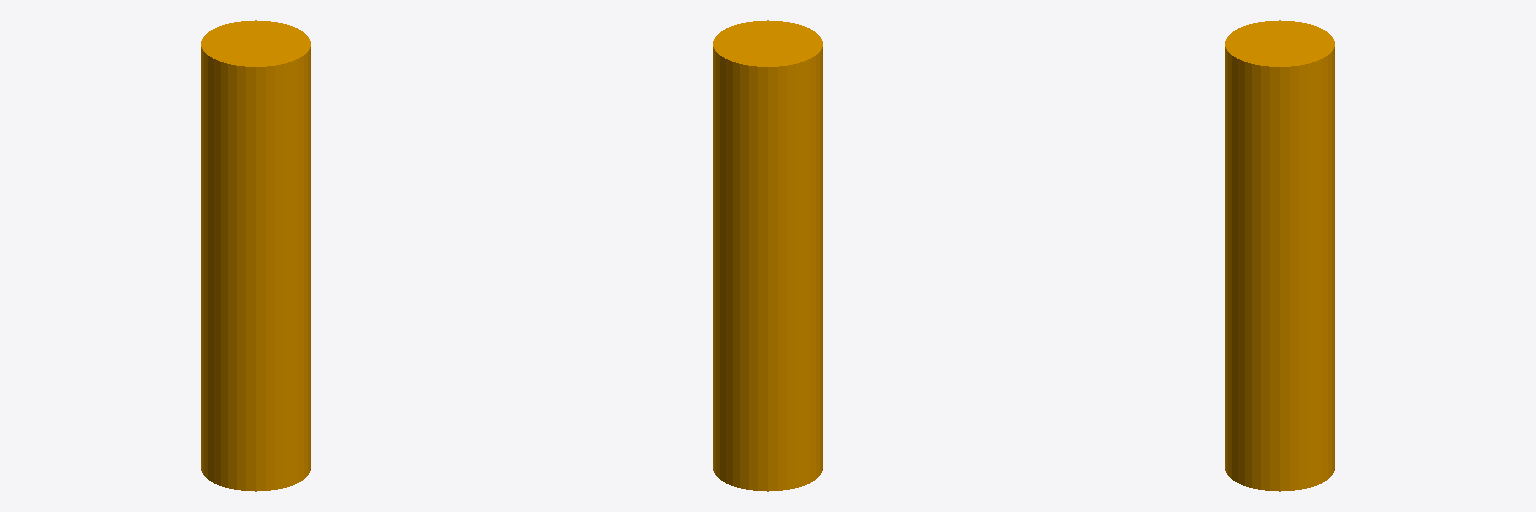
robot.urdf — peg_0001:
<robot name="peg_0001">
  <link name="peg_0001">
    <inertial>
      <origin xyz="0.0 0.0 -0.085" rpy="-1.570759 0 0"/>
      <mass value="0.050" />
      <inertia  ixx="0.0004849452" ixy="0.0"  ixz="0.0"  iyy="0.0000386667"  iyz="0.0"  izz="0.0004849452" />
    </inertial>
    <visual>
      <origin xyz="0.0 0.0 0.0" rpy="-1.570759 0 0"/>
	<geometry>
		<mesh filename="package://sawyer_sim_examples/models/peg_hole/STL/rigid_peg_0001.STL" scale="0.001 0.001 0.001"/>
	</geometry>
    </visual>
    <collision>
      <origin xyz="0.0 0.0 -0.085" rpy="0 0 0"/>
	<geometry>
		<cylinder length="0.170" radius="0.02"/>
	</geometry>
    </collision>
  </link>
  <gazebo reference="peg_0001">
    <material>Gazebo/White</material>
     <mu1>10000.0</mu1>
     <mu2>10000.0</mu2>
  </gazebo>
</robot>

--- Render facts (derived) ---
3 views of the same robot in one strip: view 1: azimuth 30°, elevation 25°; view 2: azimuth 150°, elevation 25°; view 3: azimuth 270°, elevation 25° (orthographic).
Model peg_0001 with 1 links and 0 joints (none), rooted at peg_0001, posed every joint at zero.
Links seen in each view (by area): view 1: peg_0001; view 2: peg_0001; view 3: peg_0001.
Link boxes in pixels (x1,y1,x2,y2): peg_0001: (201,20,310,491); peg_0001: (713,20,822,491); peg_0001: (1225,20,1334,491).
Size in the robot's own frame: 0.04 by 0.04 by 0.17 metres.
Meshes: 1 distinct files referenced, 1 mesh visuals loaded (1 binary STL).